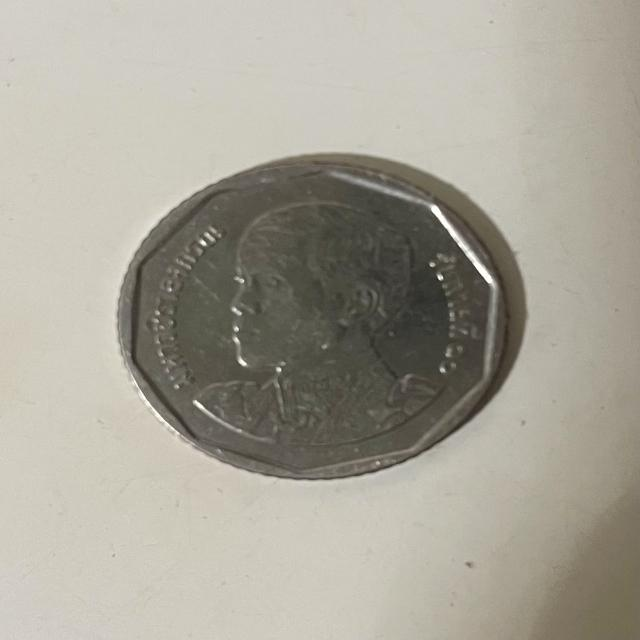5 Bath: (108, 157, 519, 489)
